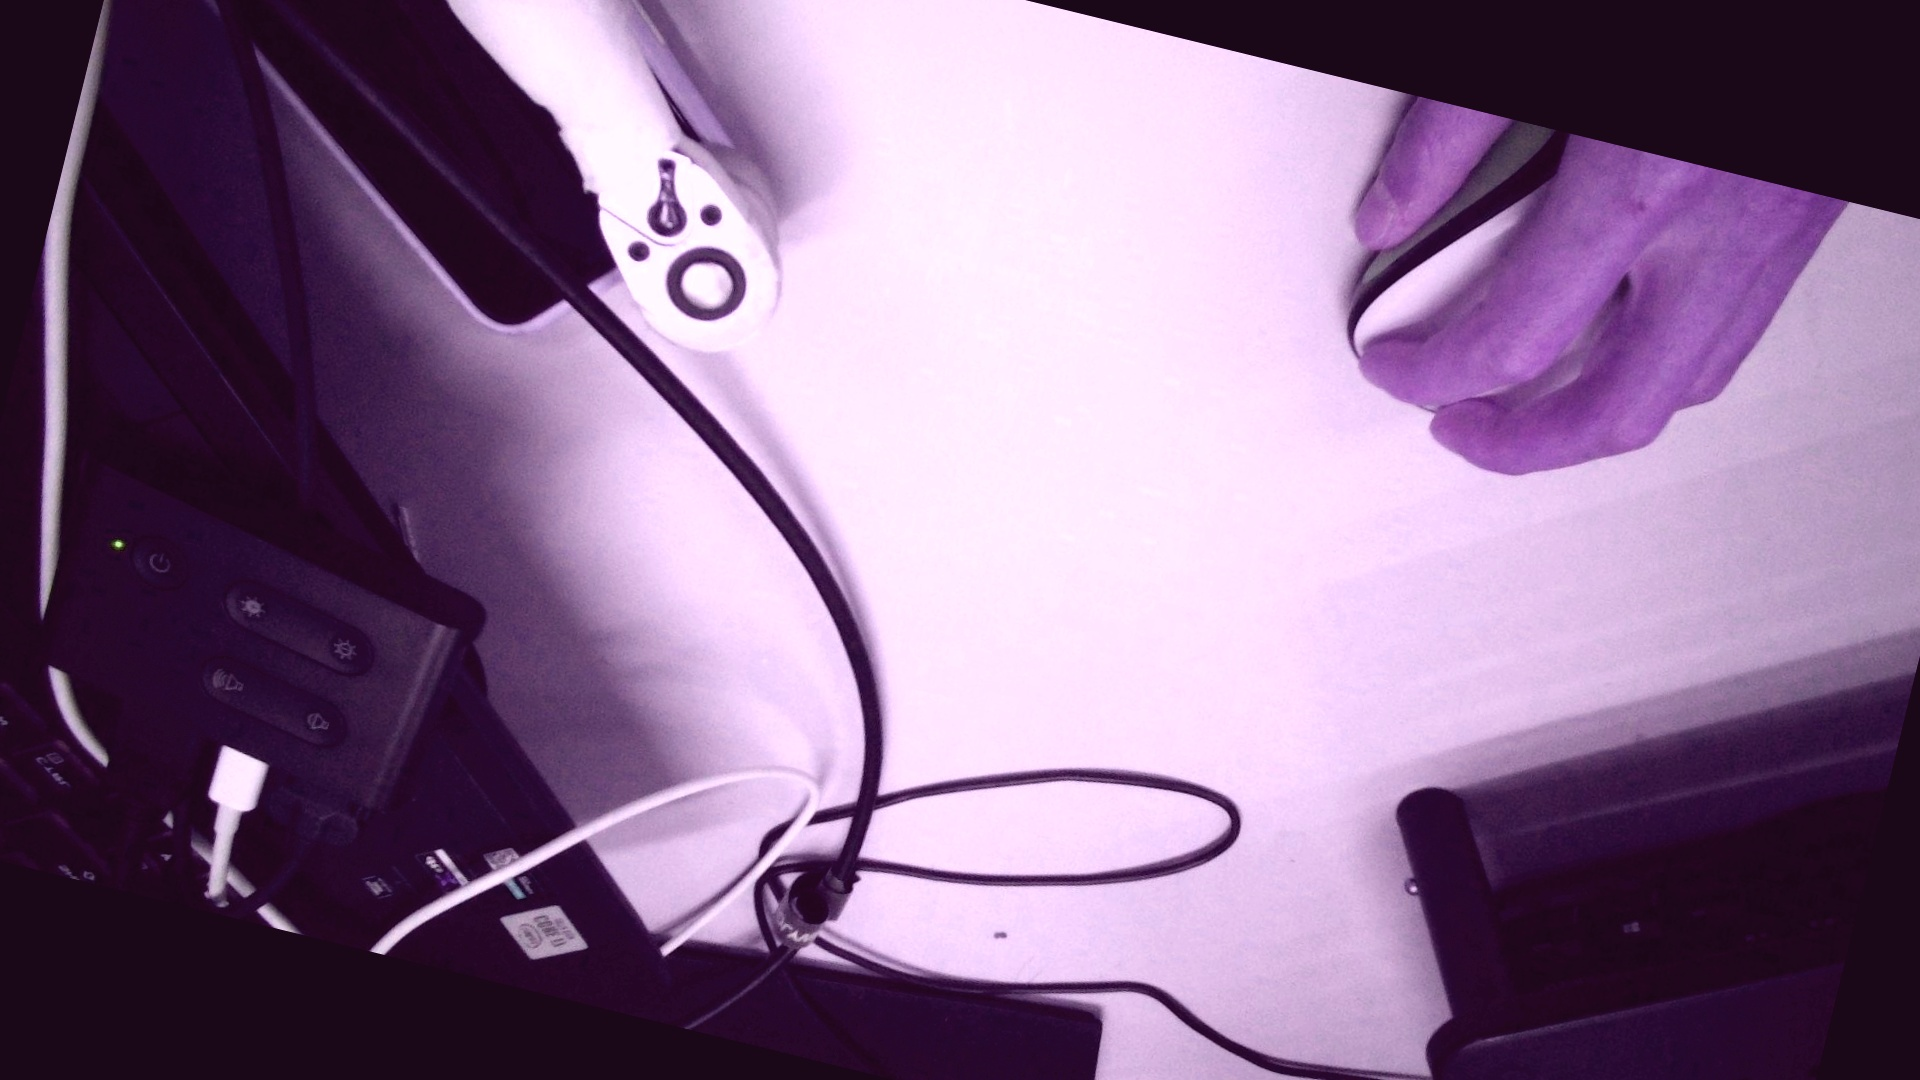wrench: (651, 236, 749, 328)
